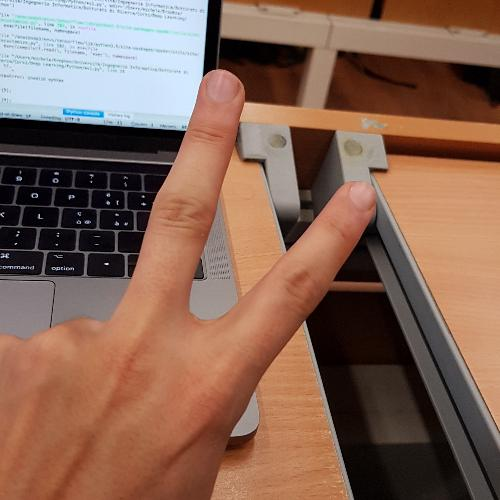scissors: (0, 65, 387, 500)
